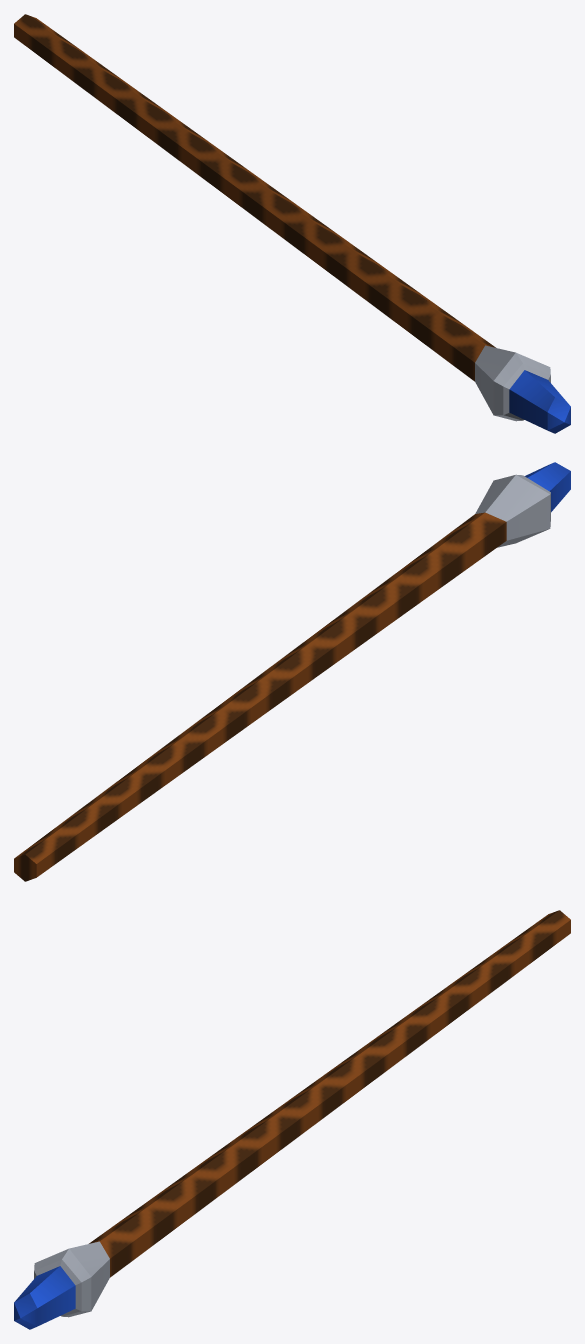
File: wpn-staff.glb
The picture shows the model from 3 angles, top to bottom: view 1: azimuth 30°, elevation 25°; view 2: azimuth 150°, elevation 25°; view 3: azimuth 330°, elevation 25°; orthographic projection.
Visible parts, largest first — view 1: StaffBasic_A; view 2: StaffBasic_A; view 3: StaffBasic_A.
Boxes of the visible parts, x1,y1,x2,y2 form: StaffBasic_A: (14, 14, 570, 433); StaffBasic_A: (14, 462, 570, 881); StaffBasic_A: (14, 910, 570, 1329).
Bounding box in the file's own units: 0.1164 × 0.1344 × 1.91.
1 material, 1 textured.
